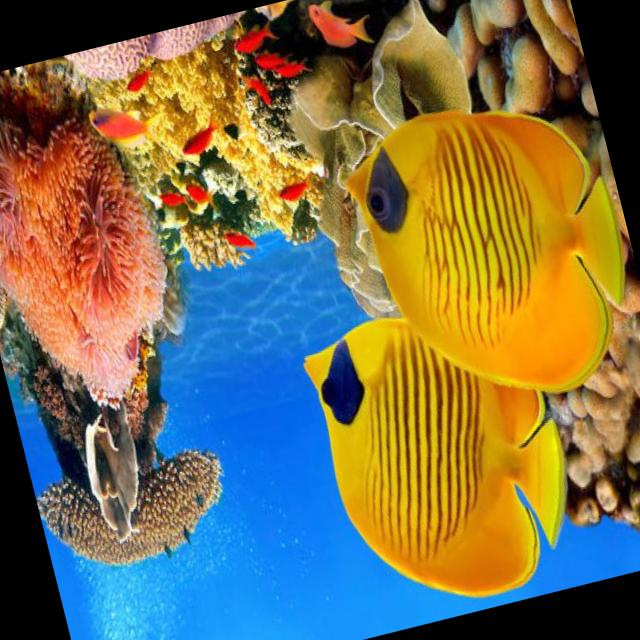ButterflyFish: (314, 54, 640, 429), (286, 281, 604, 631)
